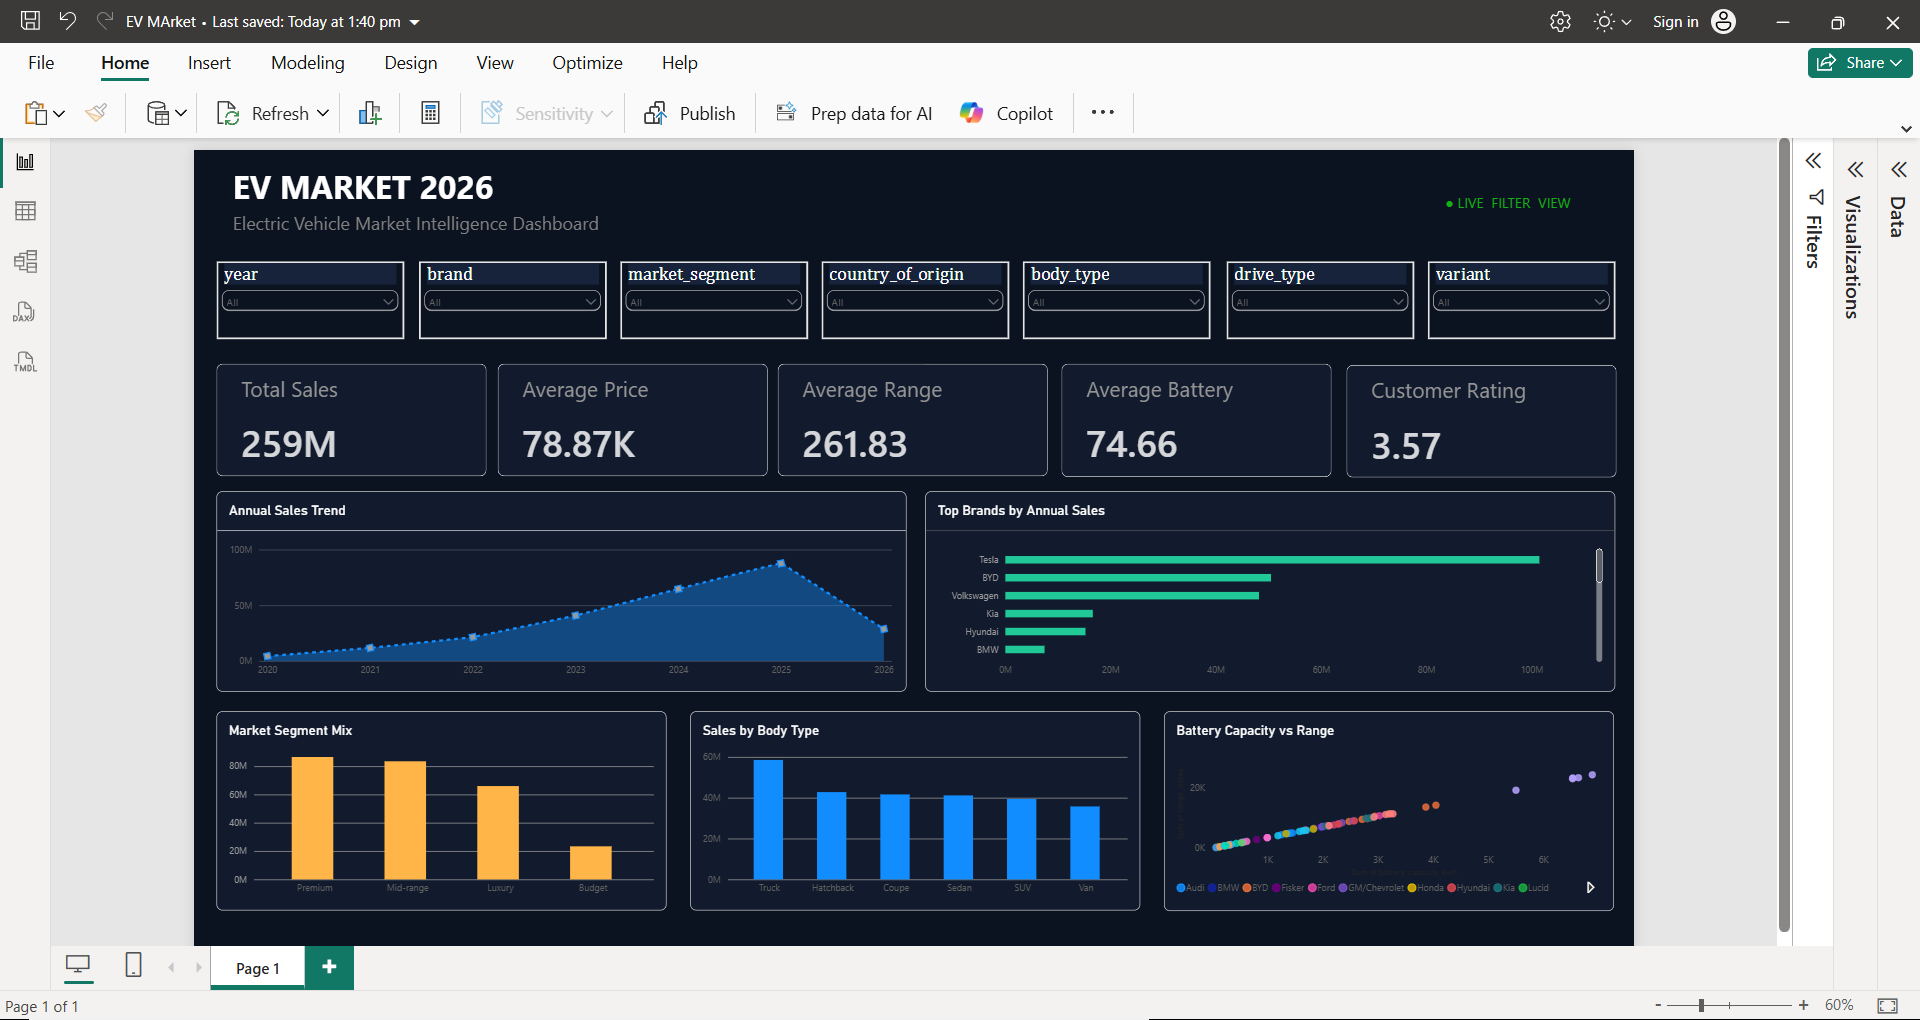

The page's visual inventory and layout, read from the dashboard file:
{"tool":"powerbi","page":{"name":"Page 1","canvas":[1920,1080],"ordinal":0},"visuals":[{"type":"textbox","box":[0,18.2,1920,121.8],"z":0},{"type":"textbox","box":[10.6,80.9,576.6,36.2],"z":1},{"type":"textbox","box":[1668.1,57.4,225.5,42.6],"z":2},{"type":"slicer","fields":{"Values":["EV_Market.year"]},"box":[29.8,148.9,250,103.6],"z":3},{"type":"slicer","fields":{"Values":["EV_Market.brand"]},"box":[300,148.9,250,103.6],"z":4},{"type":"slicer","fields":{"Values":["EV_Market.market_segment"]},"box":[568.1,148.9,250,103.6],"z":5},{"type":"slicer","fields":{"Values":["EV_Market.country_of_origin"]},"box":[836.2,148.9,250,103.6],"z":6},{"type":"slicer","fields":{"Values":["EV_Market.body_type"]},"box":[1104.3,148.9,250,103.6],"z":7},{"type":"slicer","fields":{"Values":["EV_Market.drive_type"]},"box":[1376.6,148.9,250,103.6],"z":8},{"type":"slicer","fields":{"Values":["EV_Market.variant"]},"box":[1644.7,148.9,250,103.6],"z":9},{"type":"cardVisual","fields":{"Data":["EV_Market.Total Sales"]},"box":[29.8,285.1,360,150],"z":10},{"type":"cardVisual","fields":{"Data":["EV_Market.Average Price"]},"box":[404.3,285.1,360,150],"z":11},{"type":"cardVisual","fields":{"Data":["EV_Market.Average Range"]},"box":[778.7,285.1,360,150],"z":12},{"type":"cardVisual","fields":{"Data":["EV_Market.Average Battery"]},"box":[1157.4,285.1,360,151.1],"z":13},{"type":"cardVisual","fields":{"Data":["EV_Market.Customer Rating"]},"box":[1536.2,287.2,360,150],"z":14},{"type":"lineChart","title":"Annual Sales Trend","fields":{"Category":["EV_Market.year"],"Y":["EV_Market.Total Sales"]},"box":[29.8,455.3,920,267.5],"z":15},{"type":"clusteredBarChart","title":"Top Brands by Annual Sales","fields":{"Category":["EV_Market.brand"],"Y":["EV_Market.Total Sales"]},"box":[974.5,455.3,920,267.5],"z":16},{"type":"clusteredColumnChart","title":"Market Segment Mix","fields":{"Category":["EV_Market.market_segment"],"Y":["EV_Market.Total Sales"]},"box":[29.8,748.9,600,266],"z":17},{"type":"clusteredColumnChart","title":"Sales by Body Type","fields":{"Category":["EV_Market.body_type"],"Y":["EV_Market.Total Sales"]},"box":[661.7,748.9,600,266],"z":18},{"type":"scatterChart","title":"Battery Capacity vs Range","fields":{"Category":["EV_Market.model"],"Series":["EV_Market.brand"],"X":["Sum(EV_Market.battery_capacity_kwh)"],"Y":["Sum(EV_Market.range_miles)"]},"box":[1293.6,748.9,600,266],"z":19}]}

Visuals, with their boxes on the page's 1920x1080 design canvas (x1, y1, x2, y2). These are canvas units, not pixel positions in the 1920x1020 screenshot, which may show the page scaled, cropped or inside an application window:
textbox: [x1=0, y1=18, x2=1920, y2=140]
textbox: [x1=11, y1=81, x2=587, y2=117]
textbox: [x1=1668, y1=57, x2=1894, y2=100]
slicer - EV_Market.year: [x1=30, y1=149, x2=280, y2=252]
slicer - EV_Market.brand: [x1=300, y1=149, x2=550, y2=252]
slicer - EV_Market.market_segment: [x1=568, y1=149, x2=818, y2=252]
slicer - EV_Market.country_of_origin: [x1=836, y1=149, x2=1086, y2=252]
slicer - EV_Market.body_type: [x1=1104, y1=149, x2=1354, y2=252]
slicer - EV_Market.drive_type: [x1=1377, y1=149, x2=1627, y2=252]
slicer - EV_Market.variant: [x1=1645, y1=149, x2=1895, y2=252]
cardVisual - EV_Market.Total Sales: [x1=30, y1=285, x2=390, y2=435]
cardVisual - EV_Market.Average Price: [x1=404, y1=285, x2=764, y2=435]
cardVisual - EV_Market.Average Range: [x1=779, y1=285, x2=1139, y2=435]
cardVisual - EV_Market.Average Battery: [x1=1157, y1=285, x2=1517, y2=436]
cardVisual - EV_Market.Customer Rating: [x1=1536, y1=287, x2=1896, y2=437]
"Annual Sales Trend" lineChart: [x1=30, y1=455, x2=950, y2=723]
"Top Brands by Annual Sales" clusteredBarChart: [x1=974, y1=455, x2=1894, y2=723]
"Market Segment Mix" clusteredColumnChart: [x1=30, y1=749, x2=630, y2=1015]
"Sales by Body Type" clusteredColumnChart: [x1=662, y1=749, x2=1262, y2=1015]
"Battery Capacity vs Range" scatterChart: [x1=1294, y1=749, x2=1894, y2=1015]
